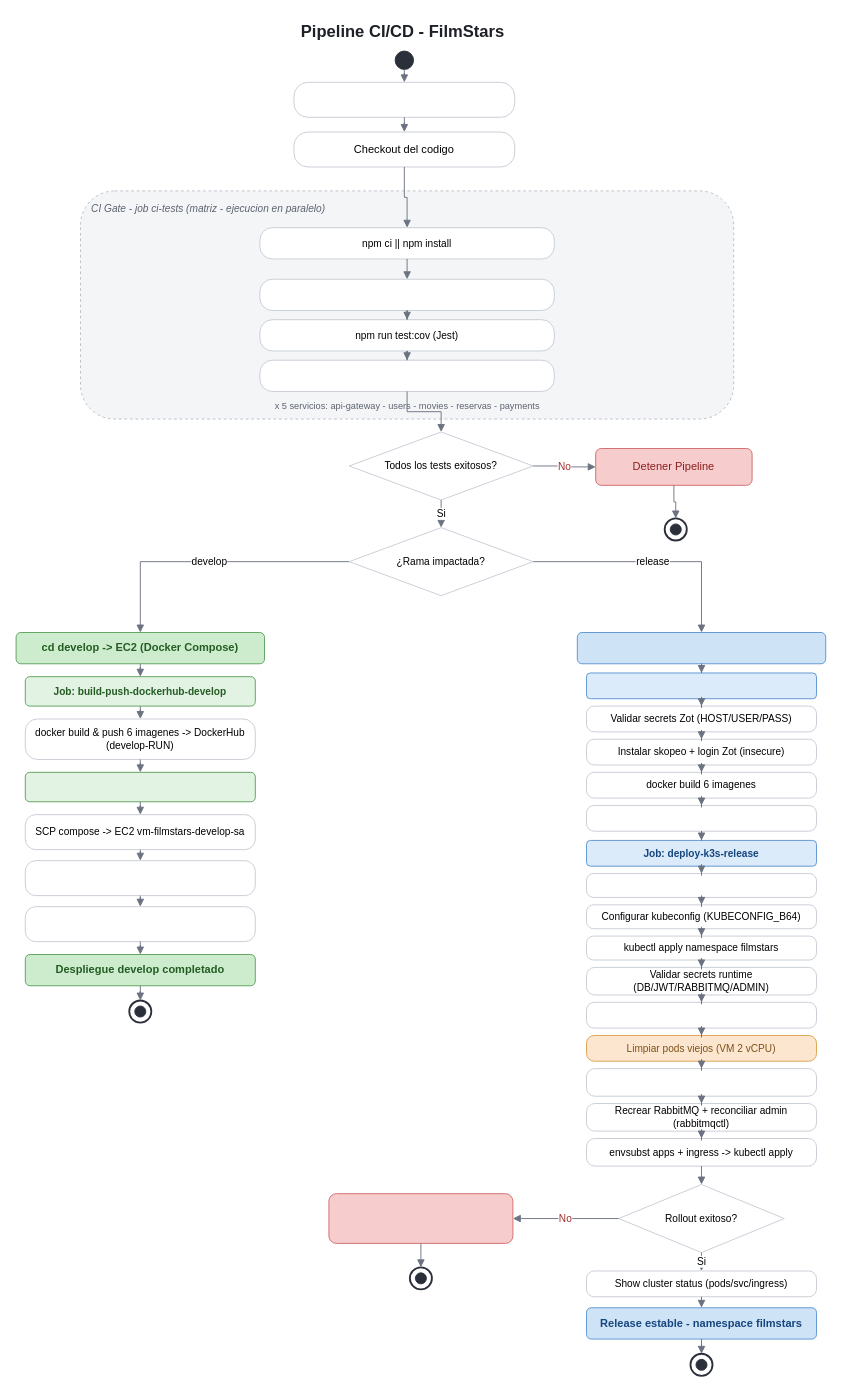
This 842x1392 diagram has some shape labels left out. Each missing label, with the centre of its shape:
"apply configmaps + databases + esperar rollout" goes at point (701, 1082).
"cd release -> K3s en AWS" goes at point (701, 648).
"Cobertura >= 75% (umbral en jest config)" goes at point (406, 375).
"Crear Secret + ConfigMaps init SQL" goes at point (701, 1014).
"docker compose up -d --remove-orphans" goes at point (139, 924).
"Escribir .env + docker compose pull (prod.yml)" goes at point (139, 878).
"Job: build-push-zot-release" goes at point (701, 685).
"Job: deploy-develop" goes at point (139, 786).
"kubectl rollout undo (rollback automatico a la ultima version estable)" goes at point (420, 1218).
"npm run build" goes at point (406, 294).
"Push o Pull Request" goes at point (404, 99).
"setup-kubectl + install envsubst" goes at point (701, 885).
"skopeo copy --format oci -> Zot privado" goes at point (701, 818).
